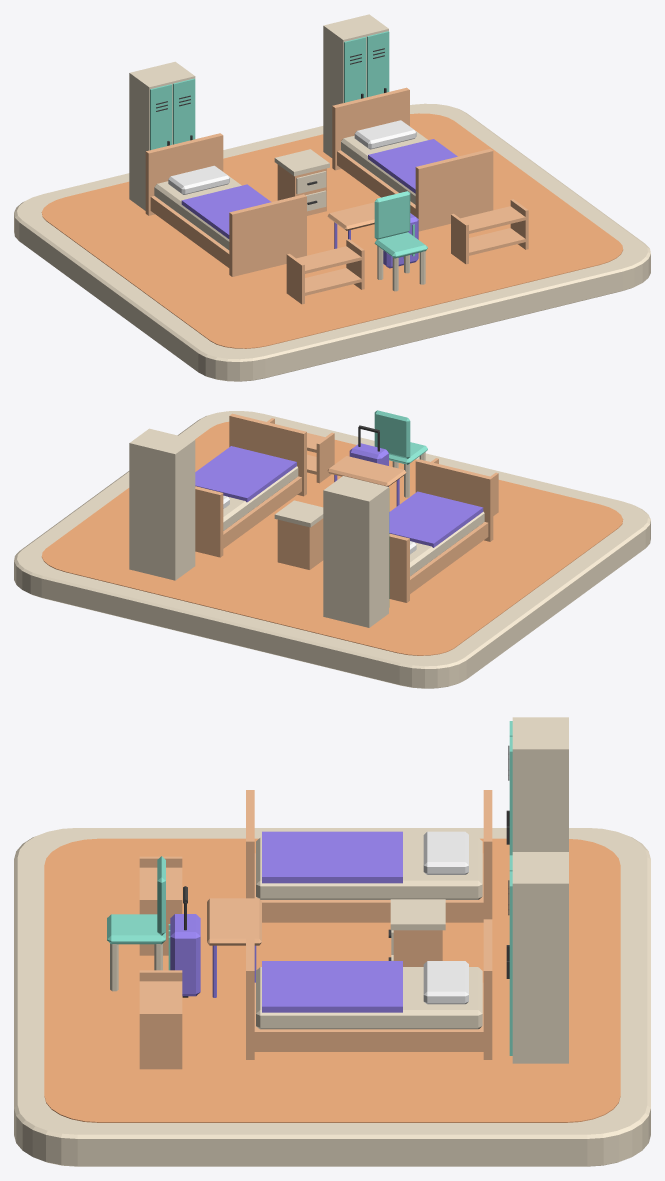
Rendered from room.fbx.
The picture shows the model from 3 angles, top to bottom: view 1: azimuth 30°, elevation 25°; view 2: azimuth 150°, elevation 25°; view 3: azimuth 270°, elevation 25°; orthographic projection. The views are drawn at different scales.
Parts seen in each view (by area): view 1: COM-02 Floor Surface, COM-01 Rounded Base Direct, End board, End board.002, Case, Case.001, End board.001, End board.003, Blanket, Blanket.001, Backrest, Mattress (+19 smaller); view 2: COM-02 Floor Surface, COM-01 Rounded Base Direct, Case.001, Case, Blanket.001, Blanket, End board, End board.002, Body, End board.003, Frame.001, Frame (+8 smaller); view 3: COM-02 Floor Surface, COM-01 Rounded Base Direct, Case.001, Case, Blanket, Blanket.001, Mattress.001, Mattress, Frame.001, Frame, Side.003, Rounded table top (+15 smaller).
Boxes of the visible parts, x1,y1,x2,y2 form: COM-02 Floor Surface: (41,113,623,348); COM-01 Rounded Base Direct: (14,103,650,381); End board: (229,194,306,276); End board.002: (415,149,493,231); Case: (129,61,195,210); Case.001: (323,14,388,157); End board.001: (145,133,223,215); End board.003: (332,87,409,170); Blanket: (181,184,271,238); Blanket.001: (368,139,457,193); Backrest: (374,191,410,239); Mattress: (154,169,241,250); COM-02 Floor Surface: (41,421,623,655); COM-01 Rounded Base Direct: (14,411,650,688); Case.001: (129,428,195,580); Case: (323,476,388,627); Blanket.001: (195,446,296,502); Blanket: (389,491,483,547); End board: (415,459,493,541); End board.002: (229,413,306,496); Body: (277,518,323,569); End board.003: (195,486,223,557); Frame.001: (223,476,301,548); Frame: (410,522,488,593); COM-02 Floor Surface: (44,838,620,1122); COM-01 Rounded Base Direct: (14,828,650,1166); Case.001: (512,852,568,1063); Case: (512,717,568,851); Blanket: (262,831,402,883); Blanket.001: (262,961,402,1012); Mattress.001: (256,967,482,1029); Mattress: (256,837,482,899); Frame.001: (254,982,483,1051); Frame: (254,853,483,922); Side.003: (139,1012,182,1069); Rounded table top: (207,898,261,945).
Size of the model in its own units: 600 by 192 by 520.
